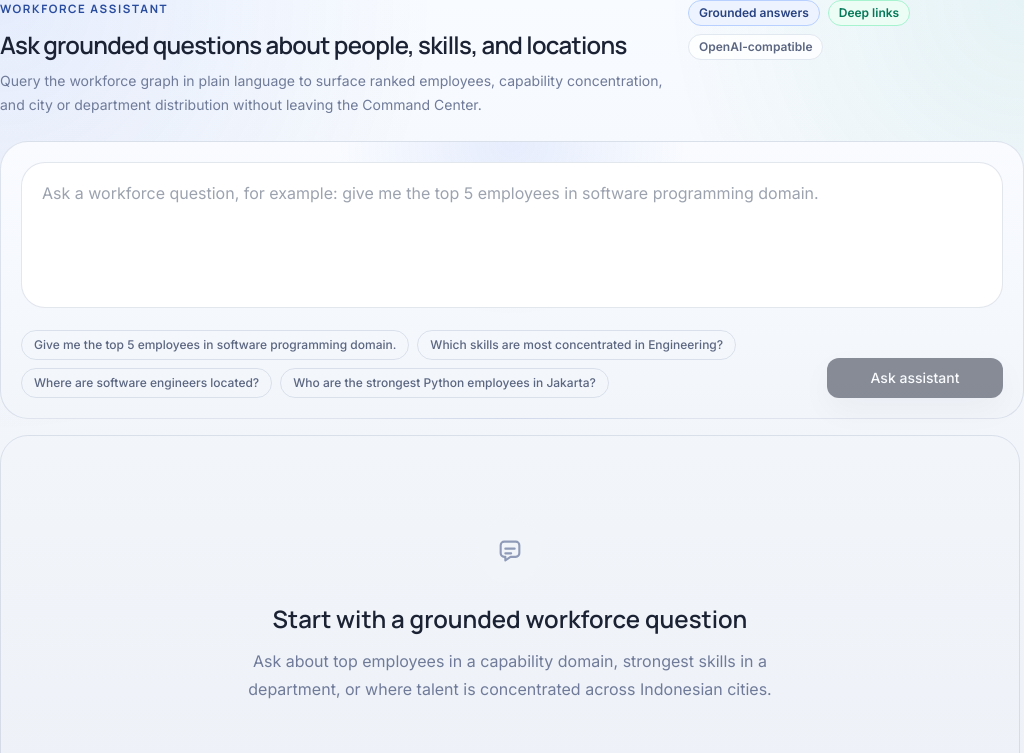
it: WorkforceAssistantCard › shows an error state when the assistant request fails
Click the button "Give me the top 5 employees in software programming domain." at (215, 345), box [21,330,409,360]
(page scrolled)
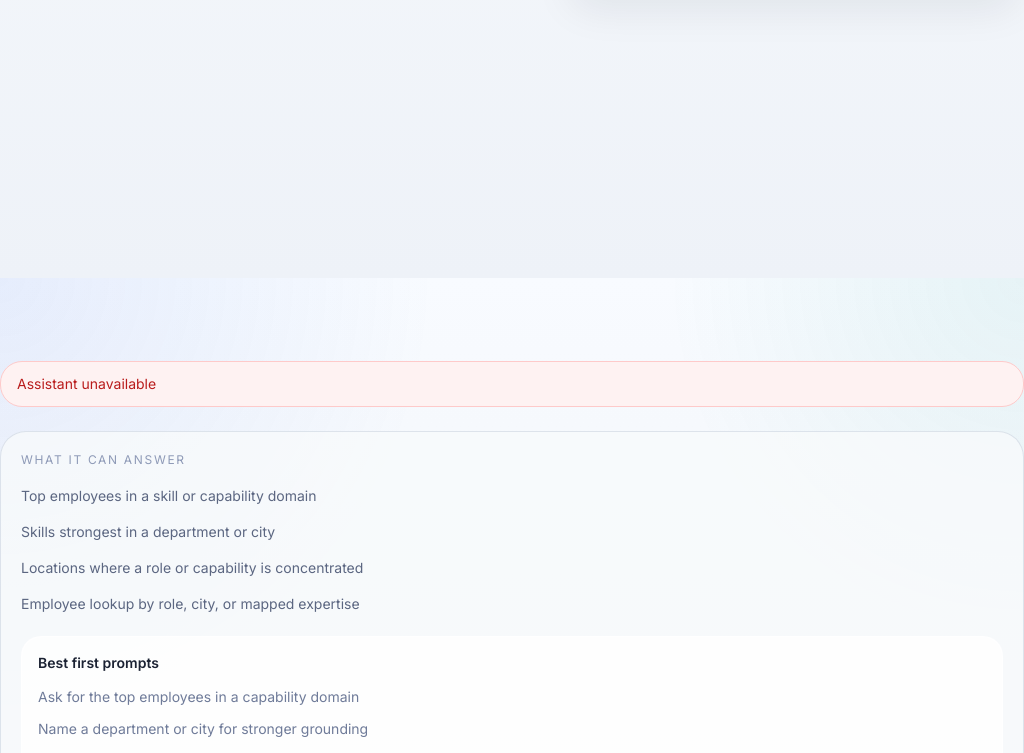
Check: the text "Assistant unavailable" is shown, box [0,361,1023,407]
